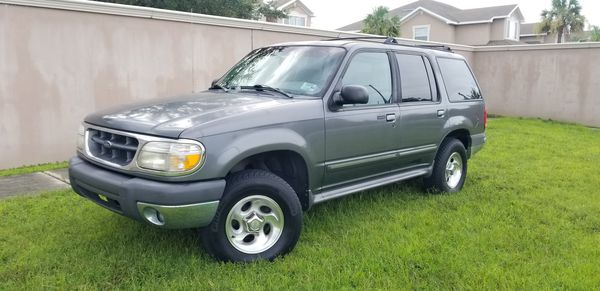Ford Explorer: (66, 32, 492, 267)
